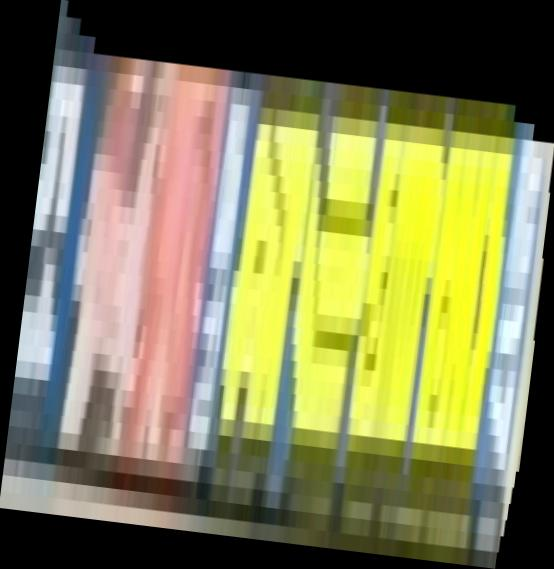flat: (1, 1, 554, 569)
